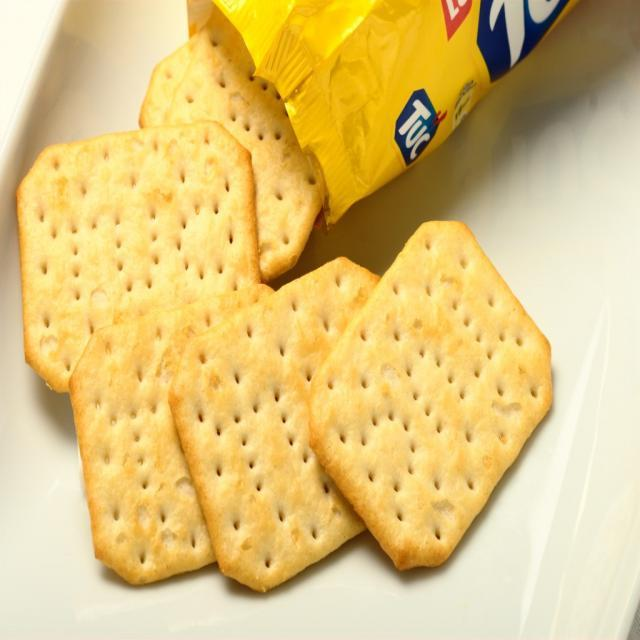Cracker: (319, 209, 559, 580), (179, 244, 419, 601), (73, 281, 315, 597), (13, 128, 271, 392)
